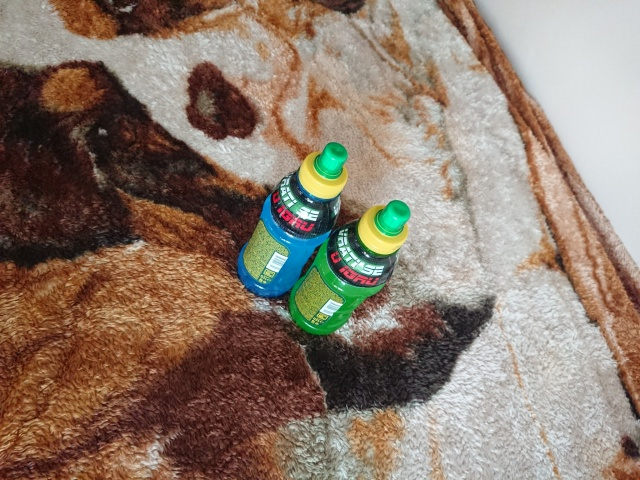Vindi Iso Sport Forest Strawberries 500mL: (235, 141, 350, 301)
Vindi Iso Sport Lemon-Grapefruit 500mL: (285, 198, 413, 338)
